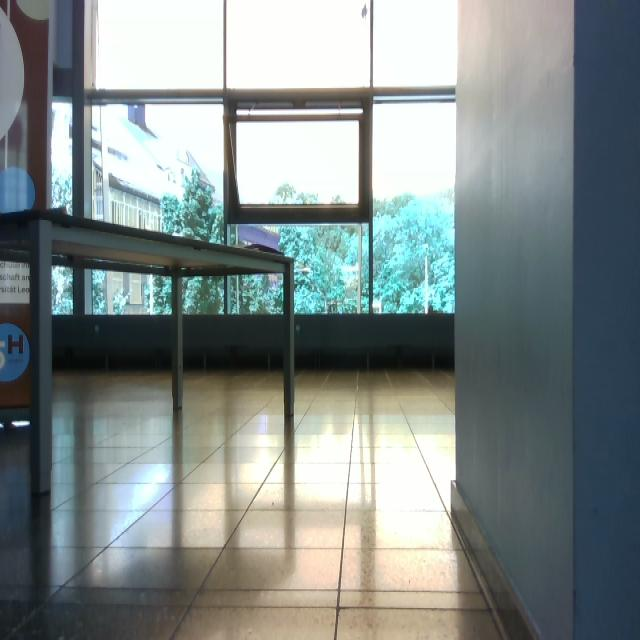light bulb: (1, 7, 26, 143), (1, 167, 36, 215)
table: (2, 206, 298, 500)
tiled floor: (2, 367, 508, 639)
window: (51, 1, 459, 320)
